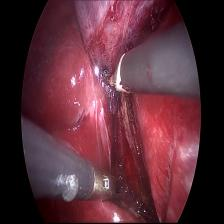Grasper: (89, 166, 136, 216)
Hook: (106, 54, 131, 100)
